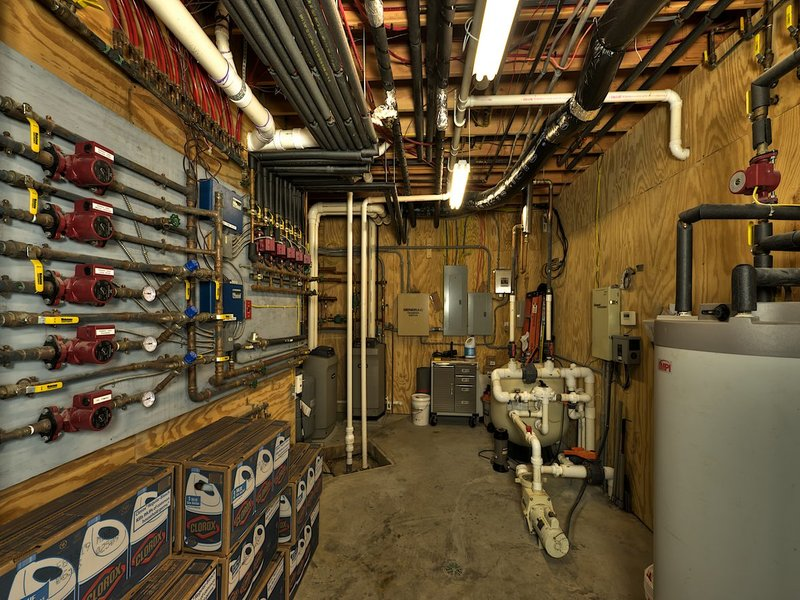valve: (14, 375, 75, 402), (17, 99, 44, 153), (16, 167, 43, 221), (24, 241, 49, 297), (746, 29, 779, 71), (19, 312, 83, 331), (172, 260, 197, 304), (738, 208, 760, 252), (206, 353, 251, 374), (781, 4, 800, 53), (201, 309, 241, 323), (209, 269, 224, 303), (733, 18, 753, 38), (698, 44, 714, 64)
